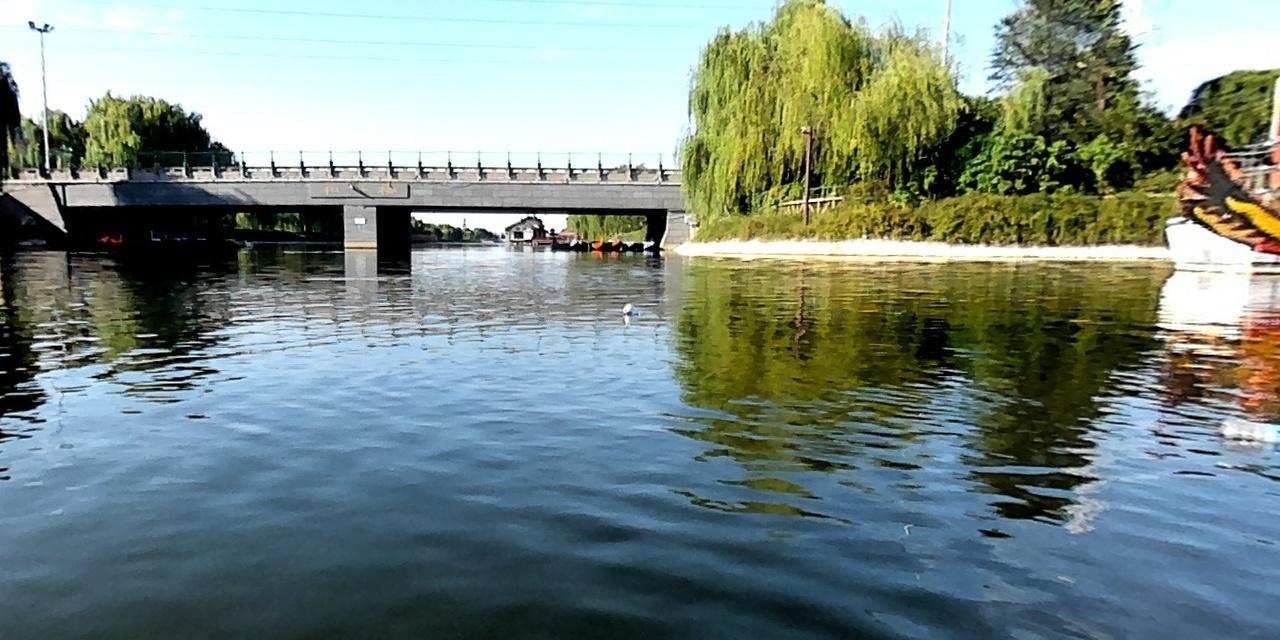bottle: (1220, 414, 1279, 451), (620, 302, 638, 318)
